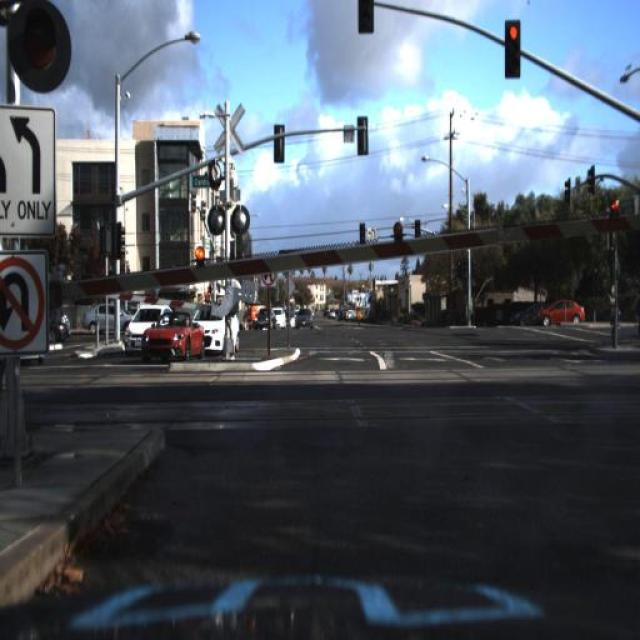car: (142, 306, 206, 360), (77, 302, 142, 342), (196, 309, 242, 356), (533, 297, 588, 332), (124, 305, 160, 353), (510, 293, 550, 331), (44, 318, 68, 352), (292, 304, 313, 330), (341, 294, 359, 324), (47, 310, 73, 330), (269, 305, 285, 336), (250, 305, 268, 327), (334, 303, 344, 328)
trafficLight: (606, 286, 622, 350)
trafficLight-Green: (0, 0, 105, 100), (356, 210, 372, 250)
trafficLight-RedLeft: (496, 12, 529, 87)
